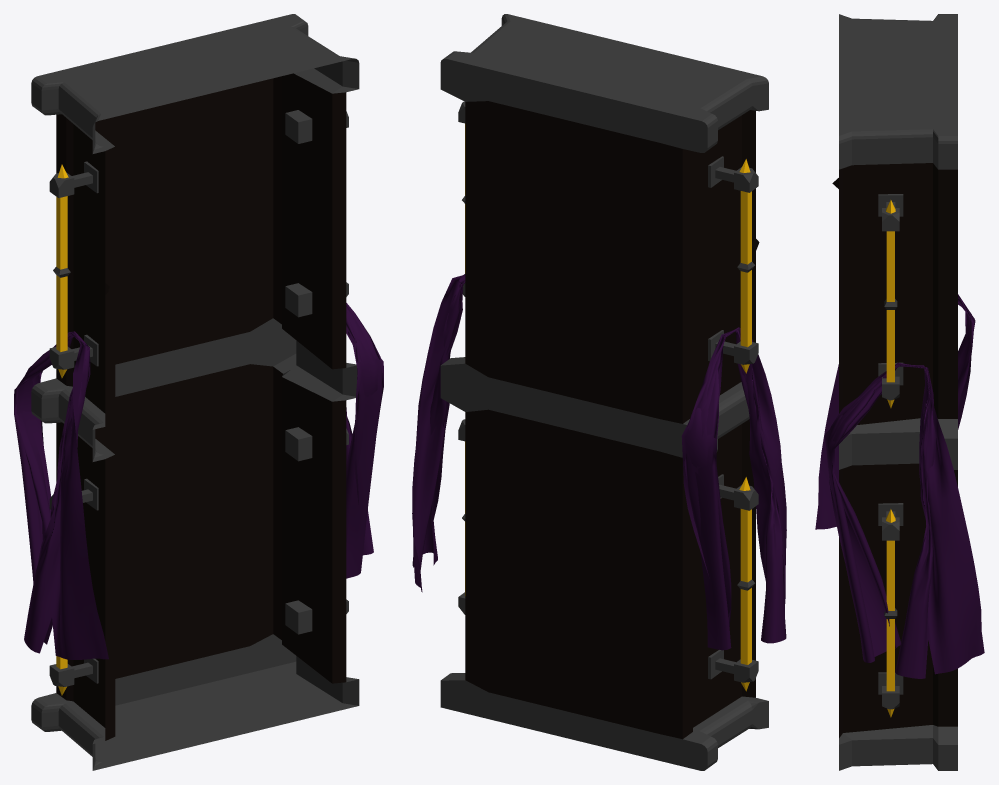
The model's file is Sarg_2_Korpus.obj.
3 views of the same model, side by side, from view 1: azimuth 30°, elevation 25°; view 2: azimuth 150°, elevation 25°; view 3: azimuth 270°, elevation 25° (orthographic). The views are drawn at different scales.
Visible parts, largest first — view 1: Sarg_2_Body; view 2: Sarg_2_Body; view 3: Sarg_2_Body.
Part boxes in pixels (<box>): Sarg_2_Body: <box>14,14,383,770</box>; Sarg_2_Body: <box>412,14,786,770</box>; Sarg_2_Body: <box>815,14,984,770</box>.
Bounding box in the file's own units: 1.43 × 2.51 × 0.6098.
